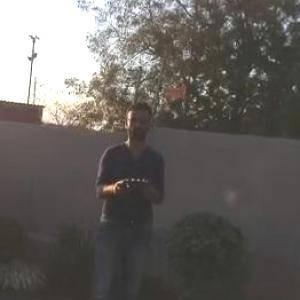follow: (87, 94, 169, 299)
